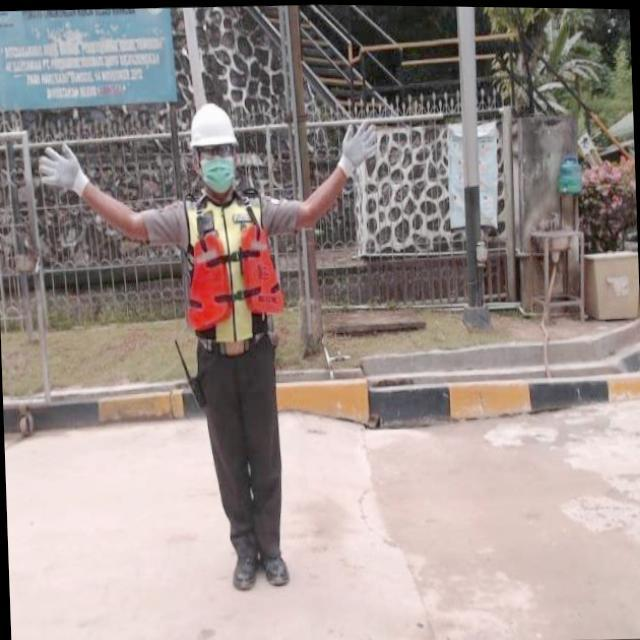goggles_on: (190, 145, 243, 164)
